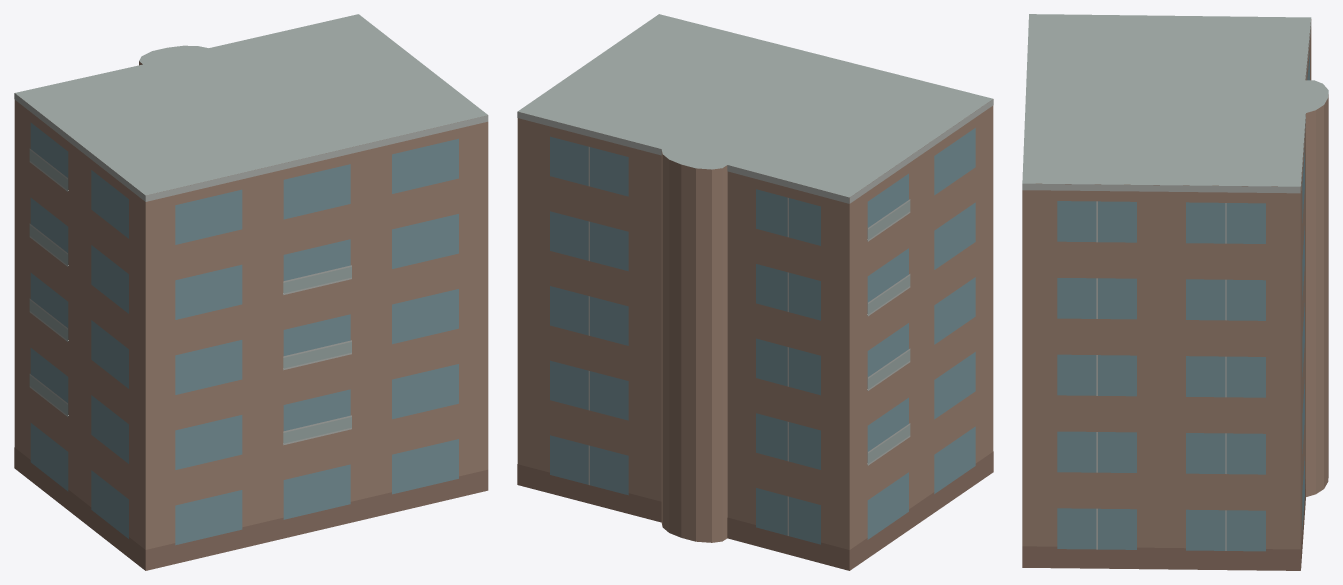
The model's file is survey-upis-32550532.glb.
3 renders of one model, left to right at view 1: azimuth 30°, elevation 25°; view 2: azimuth 150°, elevation 25°; view 3: azimuth 270°, elevation 25°, orthographic. The views are drawn at different scales.
Parts seen in each view (by area): view 1: survey-upis-32550532.tmp; view 2: survey-upis-32550532.tmp; view 3: survey-upis-32550532.tmp.
Boxes of the visible parts, x1,y1,x2,y2 form: survey-upis-32550532.tmp: (14,14,488,570); survey-upis-32550532.tmp: (517,14,993,570); survey-upis-32550532.tmp: (1022,14,1328,570).
Bounding box in the file's own units: 13.7 × 14.2 × 10.27.
